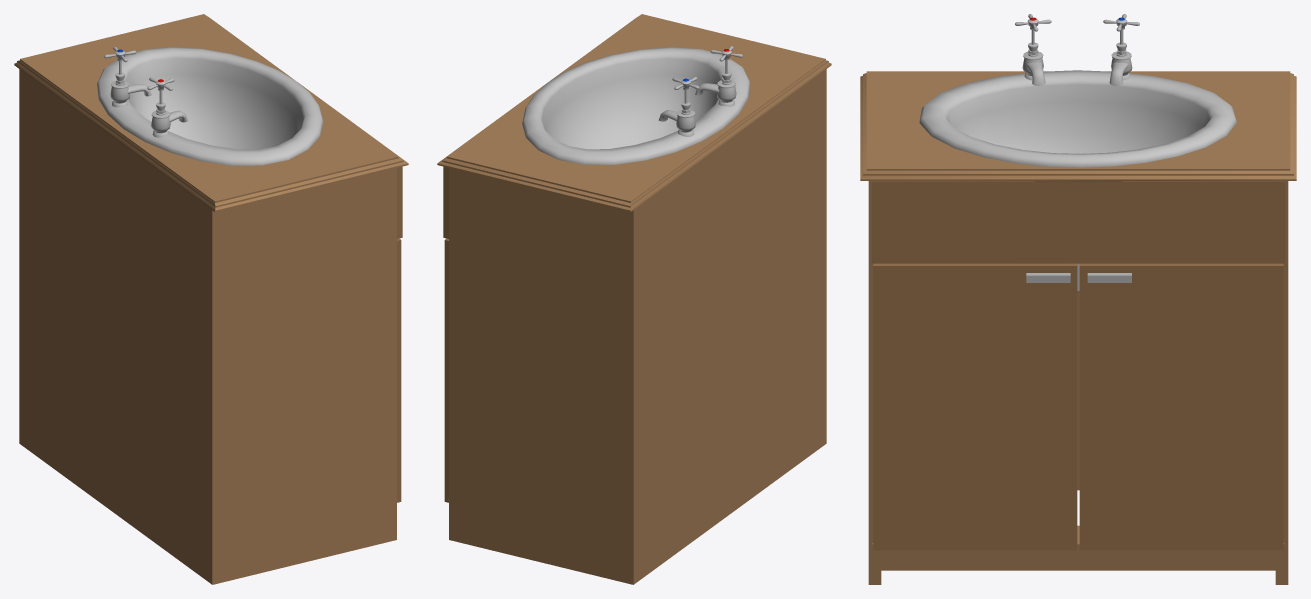
File: washbasin.FBX
3 renders of one model, left to right at view 1: azimuth 30°, elevation 25°; view 2: azimuth 150°, elevation 25°; view 3: azimuth 270°, elevation 25°, orthographic. The views are drawn at different scales.
Visible parts, largest first — view 1: washbasin; view 2: washbasin; view 3: washbasin.
Part boxes in pixels (bbox=[...]): washbasin: bbox=[14, 14, 408, 584]; washbasin: bbox=[437, 14, 831, 584]; washbasin: bbox=[860, 14, 1296, 584].
Bounding box in the file's own units: 0.5843 × 1.26 × 1.03.
